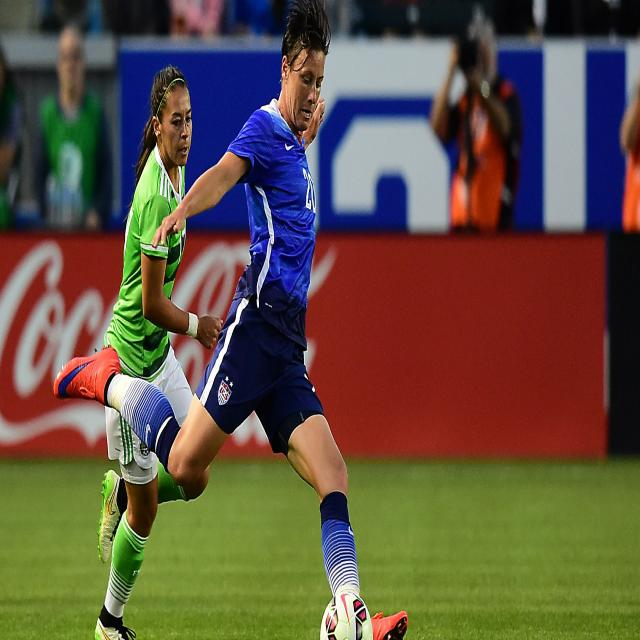shooting: (52, 5, 410, 640)
